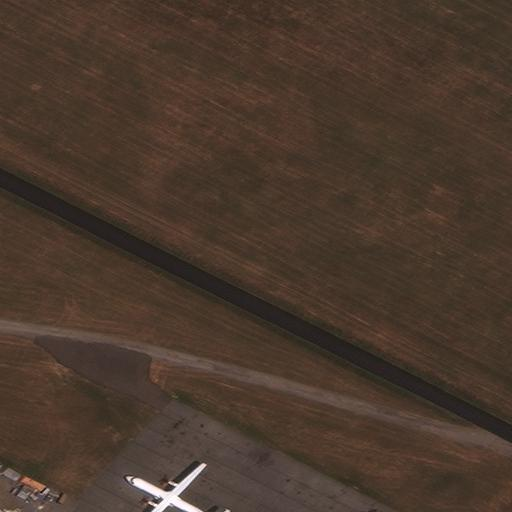Medium Civil Transport: (122, 461, 222, 511)
